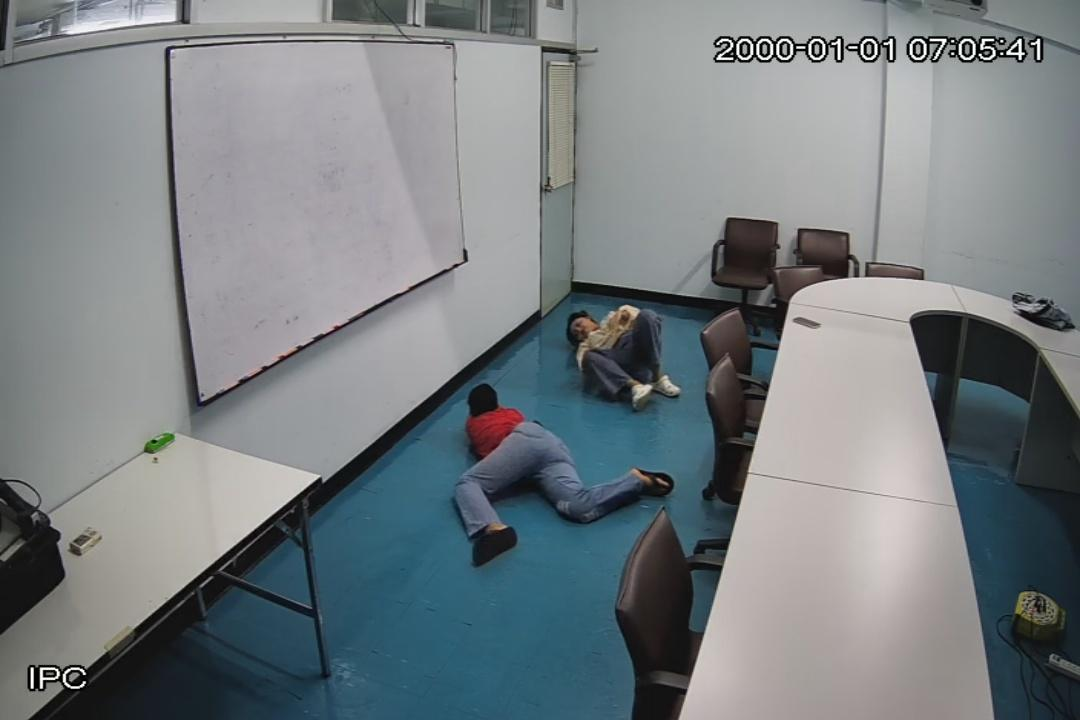fall: (440, 376, 680, 572), (566, 296, 680, 410)
